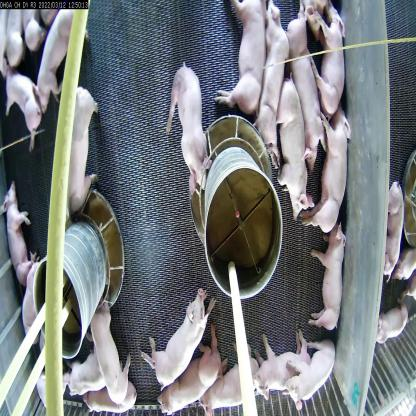Pig: (59, 70, 105, 218), (171, 74, 221, 209), (279, 68, 316, 214), (142, 300, 208, 380), (35, 5, 82, 110), (232, 0, 273, 118), (288, 18, 325, 145), (164, 340, 224, 416), (310, 223, 348, 337), (319, 111, 352, 240), (1, 59, 52, 141), (254, 335, 315, 402), (95, 302, 134, 400), (289, 339, 336, 415), (256, 0, 278, 152), (5, 184, 38, 274), (205, 365, 260, 415), (71, 354, 122, 403), (90, 382, 152, 416)
